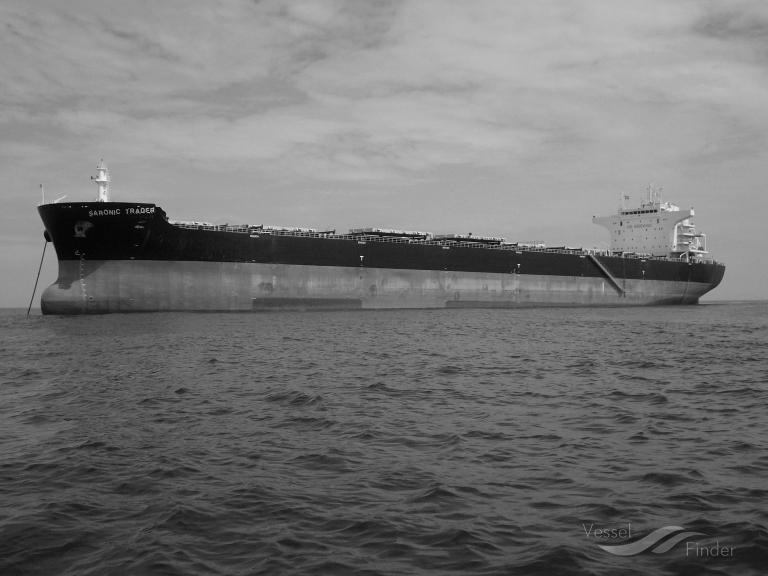OCR: (84, 207, 166, 227)
